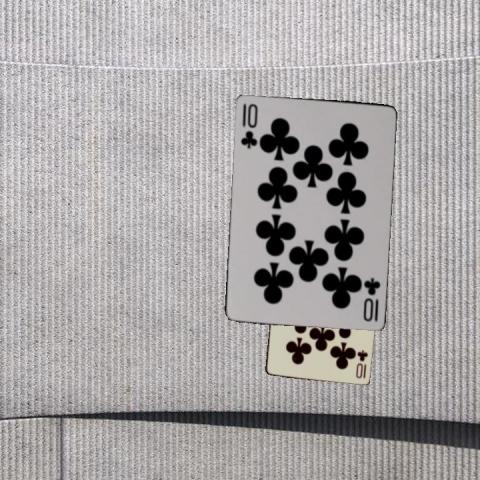10c: (237, 100, 259, 149), (360, 274, 381, 323), (352, 347, 369, 379)
